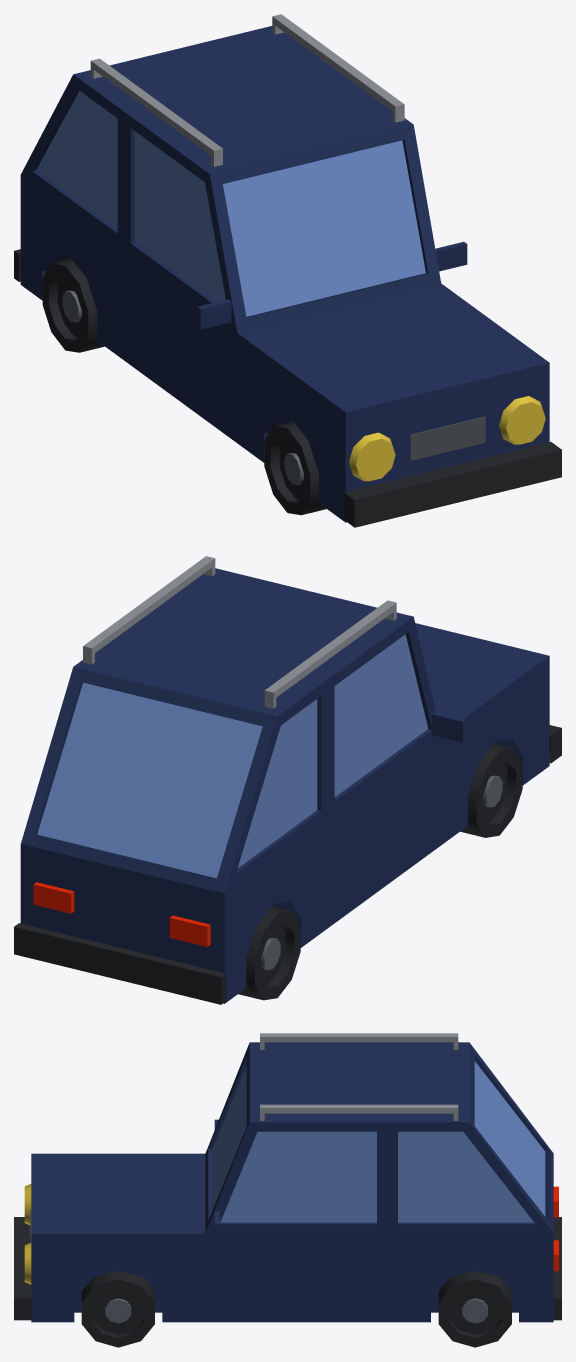
File: Car_6.fbx
3 renders of one model, top to bottom at view 1: azimuth 30°, elevation 25°; view 2: azimuth 150°, elevation 25°; view 3: azimuth 270°, elevation 25°, orthographic. The views are drawn at different scales.
Visible parts, largest first — view 1: Car_6; view 2: Car_6; view 3: Car_6.
Part boxes in pixels (x1,y1,x2,y2): Car_6: (14, 14, 561, 527); Car_6: (14, 556, 561, 1004); Car_6: (14, 1033, 561, 1347).
Size of the model in its own units: 199 by 210 by 440.
